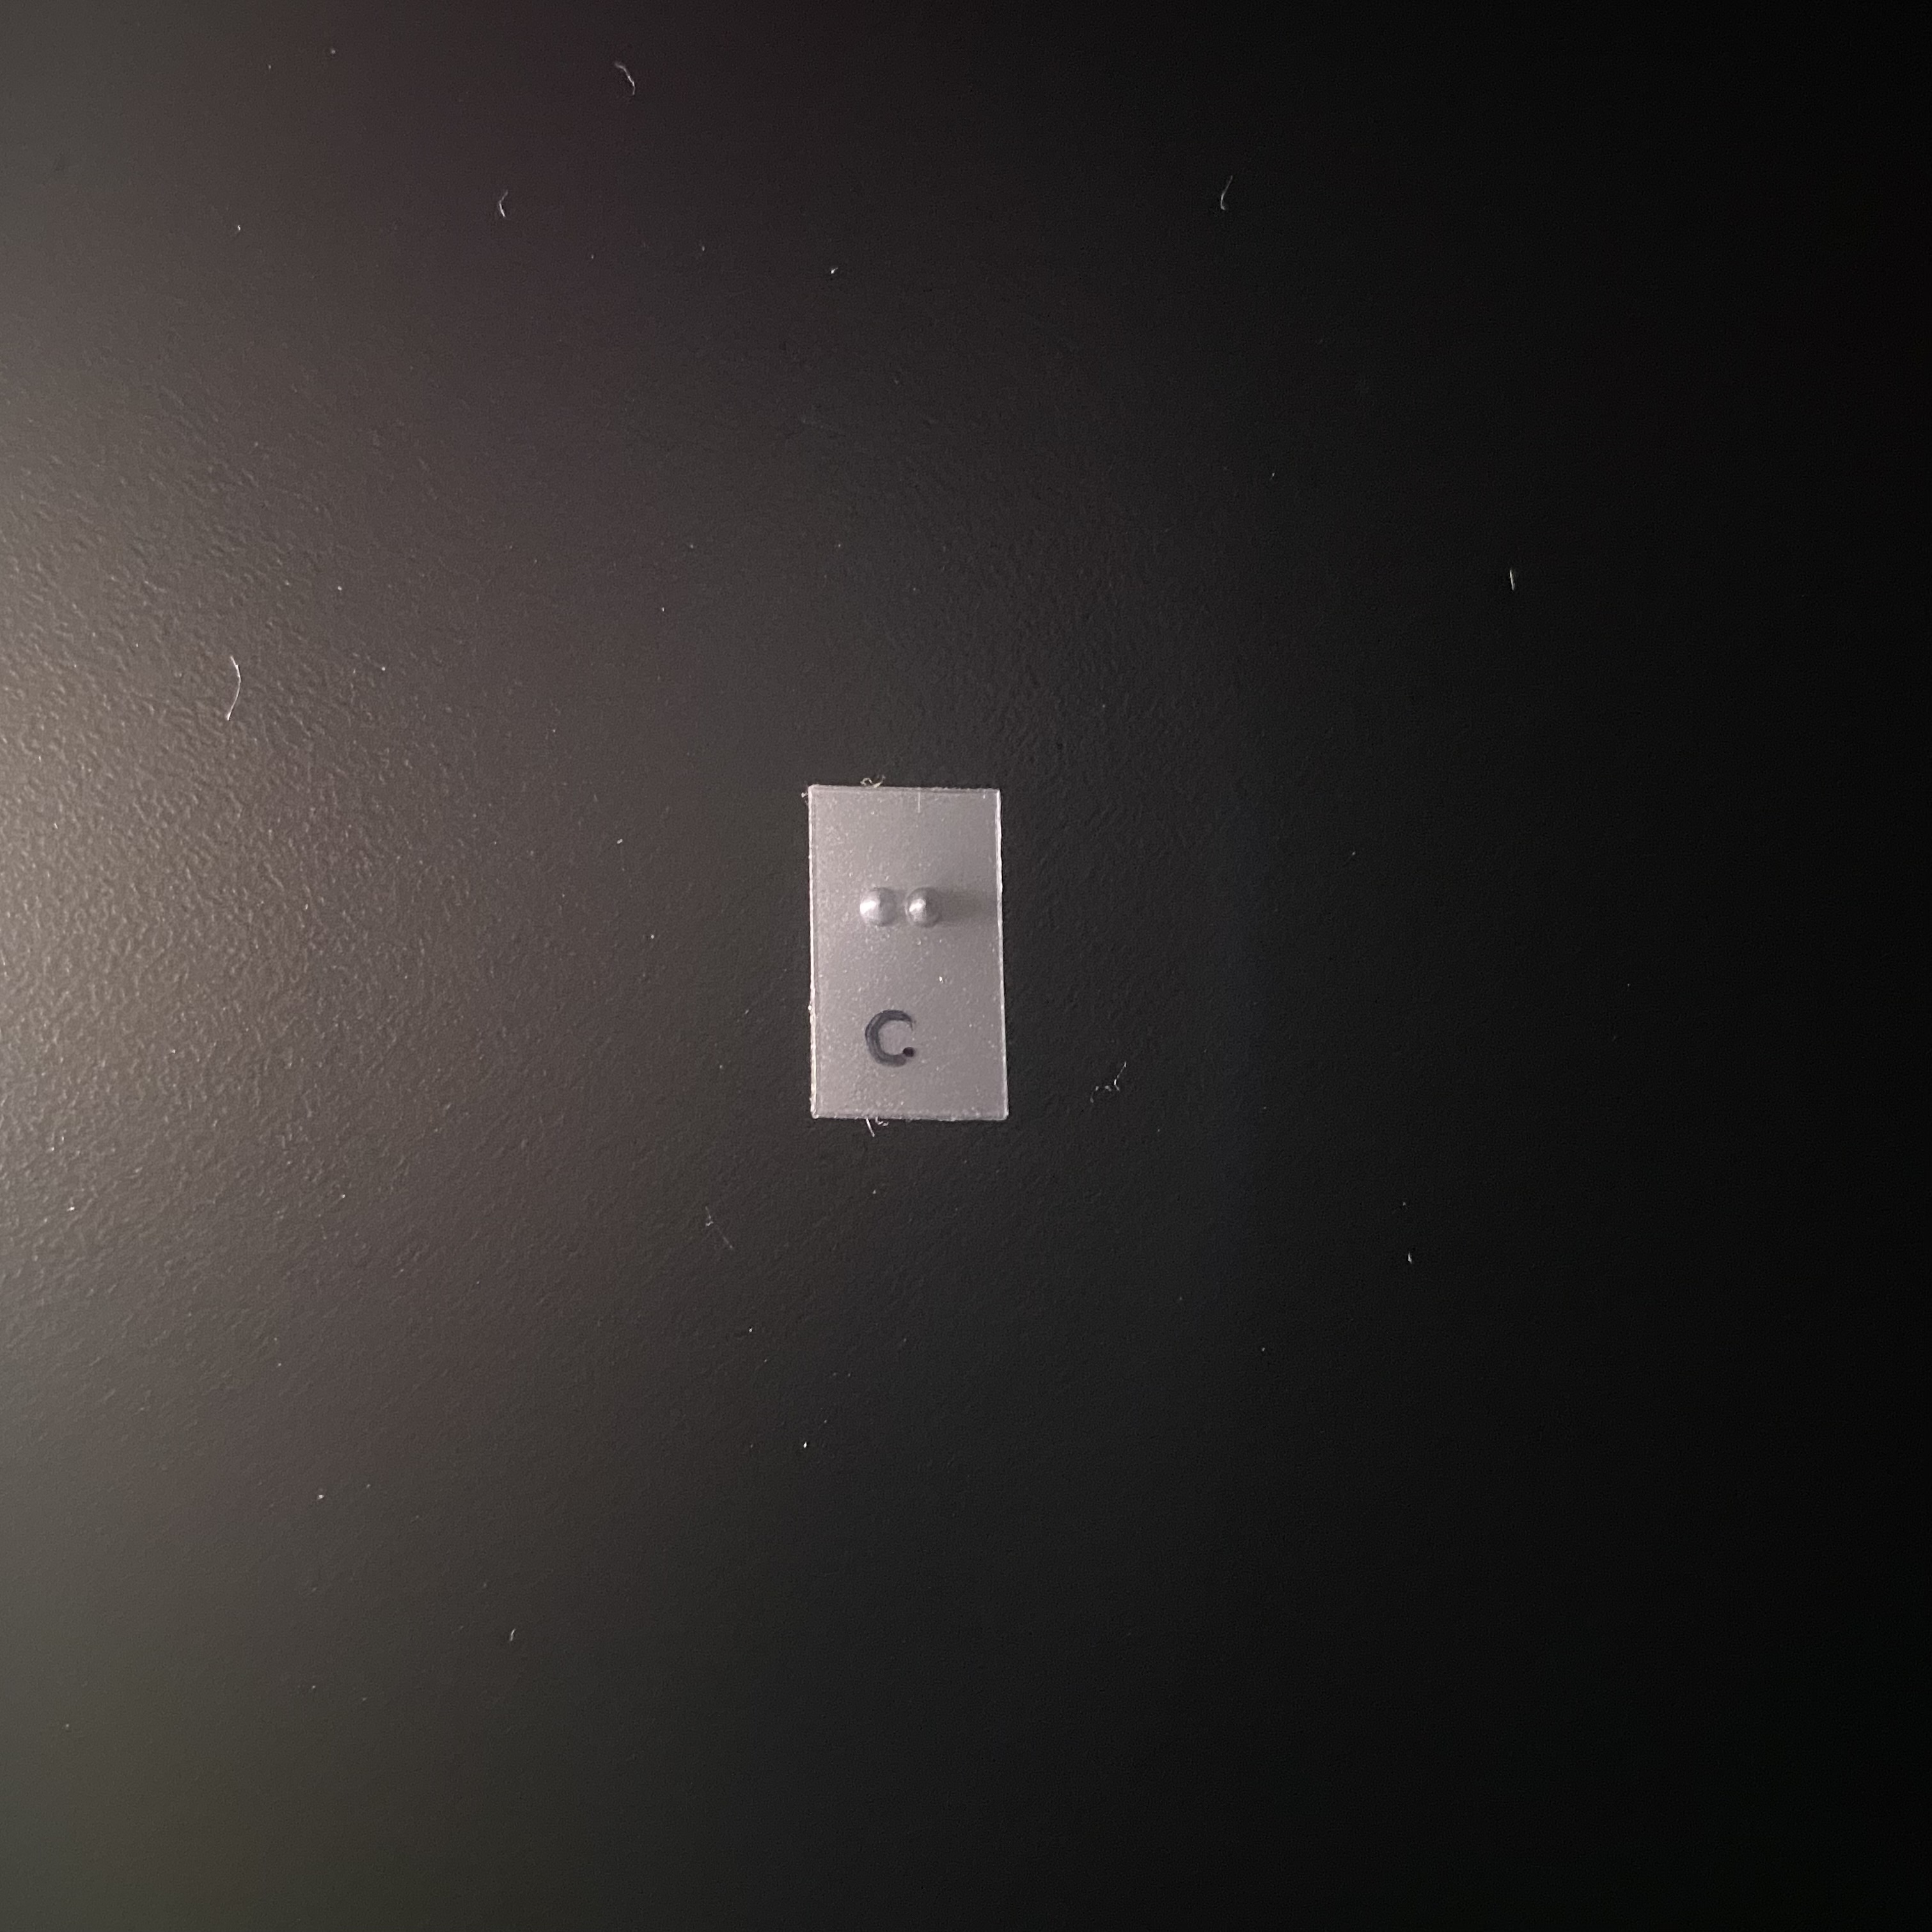c: (853, 865, 961, 1053)
